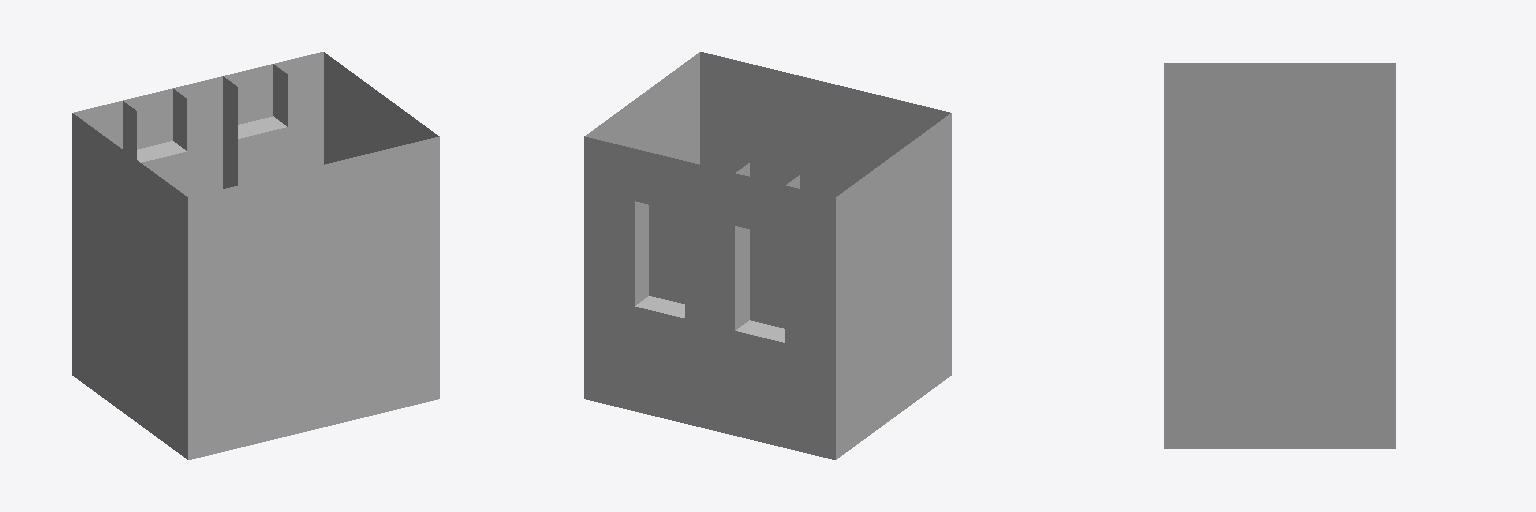
The model's file is mylandscaping_columna_m_b.obj.
The picture shows the model from 3 angles: view 1: azimuth 30°, elevation 25°; view 2: azimuth 150°, elevation 25°; view 3: azimuth 270°, elevation 25°; orthographic projection.
Parts seen in each view (by area): view 1: Adaridge_C_M_B_Plane.001; view 2: Adaridge_C_M_B_Plane.001; view 3: Adaridge_C_M_B_Plane.001.
Boxes of the visible parts, x1,y1,x2,y2 form: Adaridge_C_M_B_Plane.001: [72, 52, 439, 459]; Adaridge_C_M_B_Plane.001: [584, 52, 951, 459]; Adaridge_C_M_B_Plane.001: [1164, 63, 1395, 448].
Size of the model in its own units: 1 by 1 by 0.8.